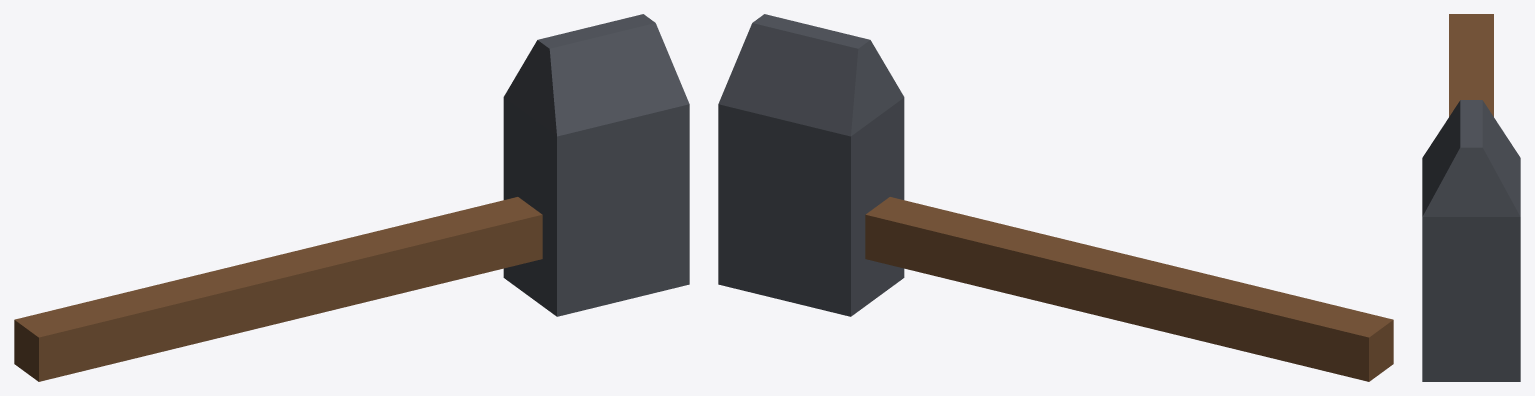
Rendered from hammer.glb.
3 renders of one model, left to right at view 1: azimuth 30°, elevation 25°; view 2: azimuth 150°, elevation 25°; view 3: azimuth 270°, elevation 25°, orthographic. The views are drawn at different scales.
Visible parts, largest first — view 1: hammer; view 2: hammer; view 3: hammer.
Part boxes in pixels (box(x1,y1,x2,y2)): hammer: box(14, 14, 689, 381); hammer: box(718, 14, 1393, 381); hammer: box(1422, 14, 1520, 381).
Size of the model in its own units: 0.48 by 0.18 by 0.07.
